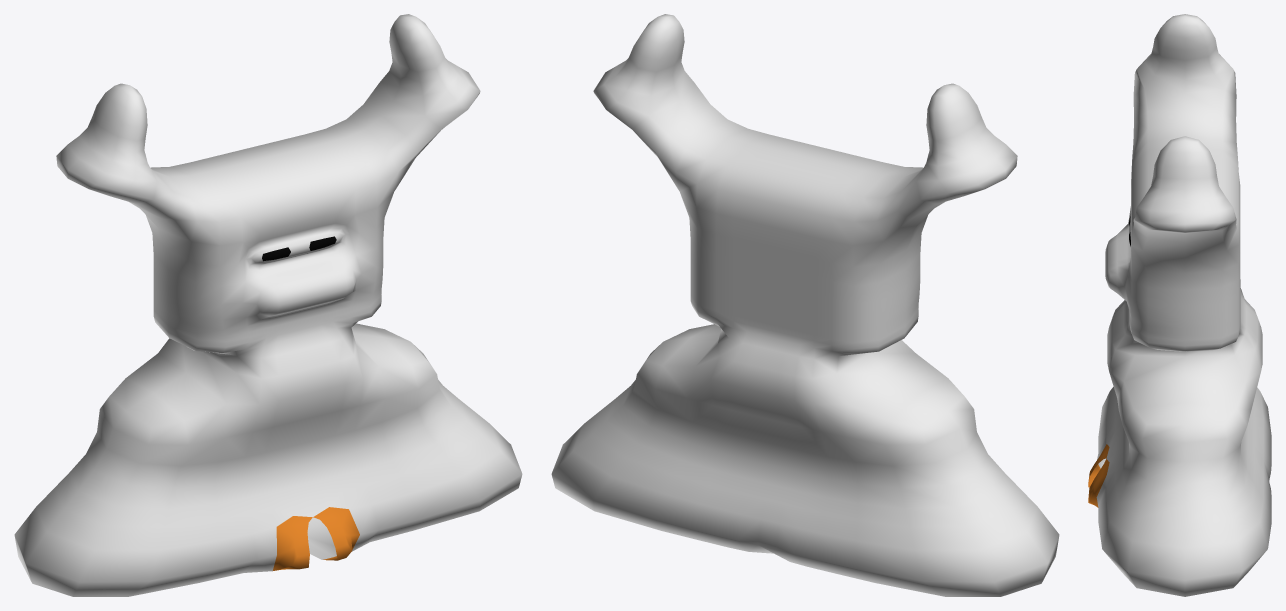
File: goblinCamp.fbx
The picture shows the model from 3 angles, left to right: view 1: azimuth 30°, elevation 25°; view 2: azimuth 150°, elevation 25°; view 3: azimuth 270°, elevation 25°; orthographic projection. The views are drawn at different scales.
Parts seen in each view (by area): view 1: door; view 2: door; view 3: door.
Boxes of the visible parts, <box> form: door: <box>14,14,522,596</box>; door: <box>551,14,1059,596</box>; door: <box>1088,14,1271,596</box>.
Size of the model in its own units: 893 by 858 by 331.
